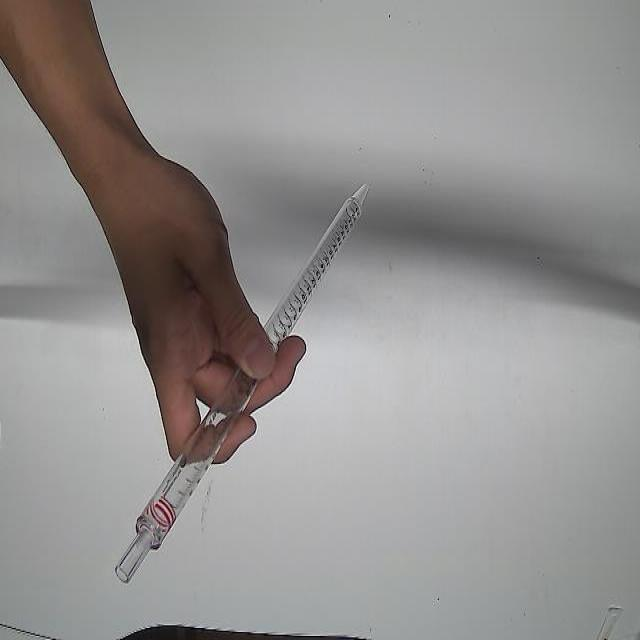Serelogical Pipet 25 mL: (115, 173, 372, 582)
